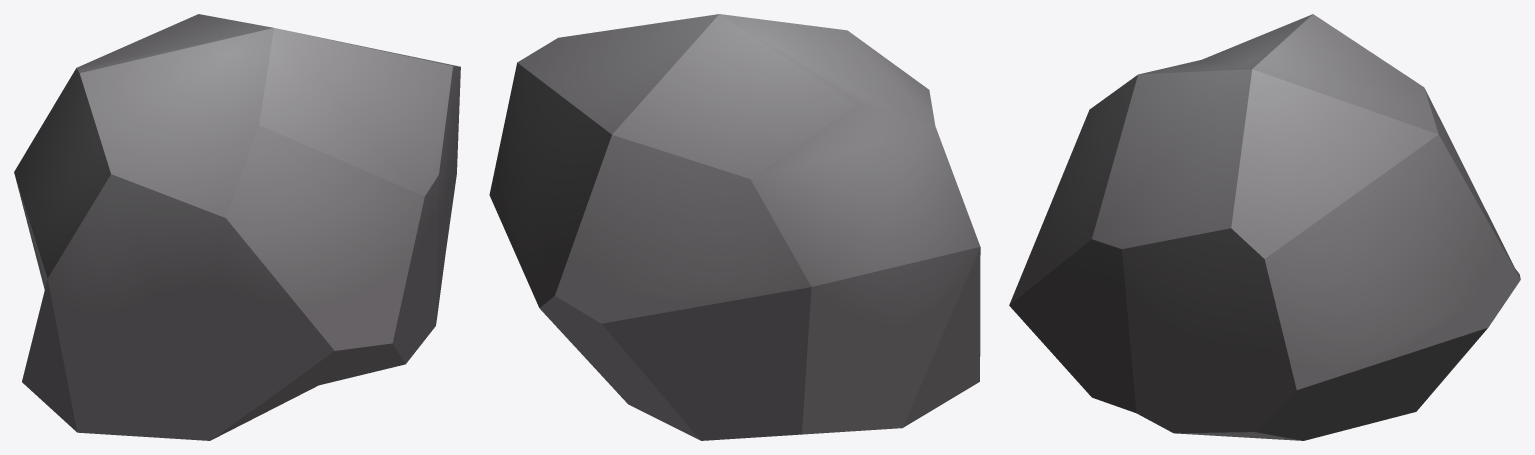
Rendered from SmallSize_Rock.fbx.
3 renders of one model, left to right at view 1: azimuth 30°, elevation 25°; view 2: azimuth 150°, elevation 25°; view 3: azimuth 270°, elevation 25°, orthographic. The views are drawn at different scales.
Visible parts, largest first — view 1: SmallSize_Rock; view 2: SmallSize_Rock; view 3: SmallSize_Rock.
Part boxes in pixels (x1,y1,x2,y2): SmallSize_Rock: (14, 14, 460, 440); SmallSize_Rock: (489, 14, 980, 440); SmallSize_Rock: (1009, 14, 1520, 440).
Bounding box in the file's own units: 1.65 × 1.16 × 1.59.
1 material, 1 textured.
